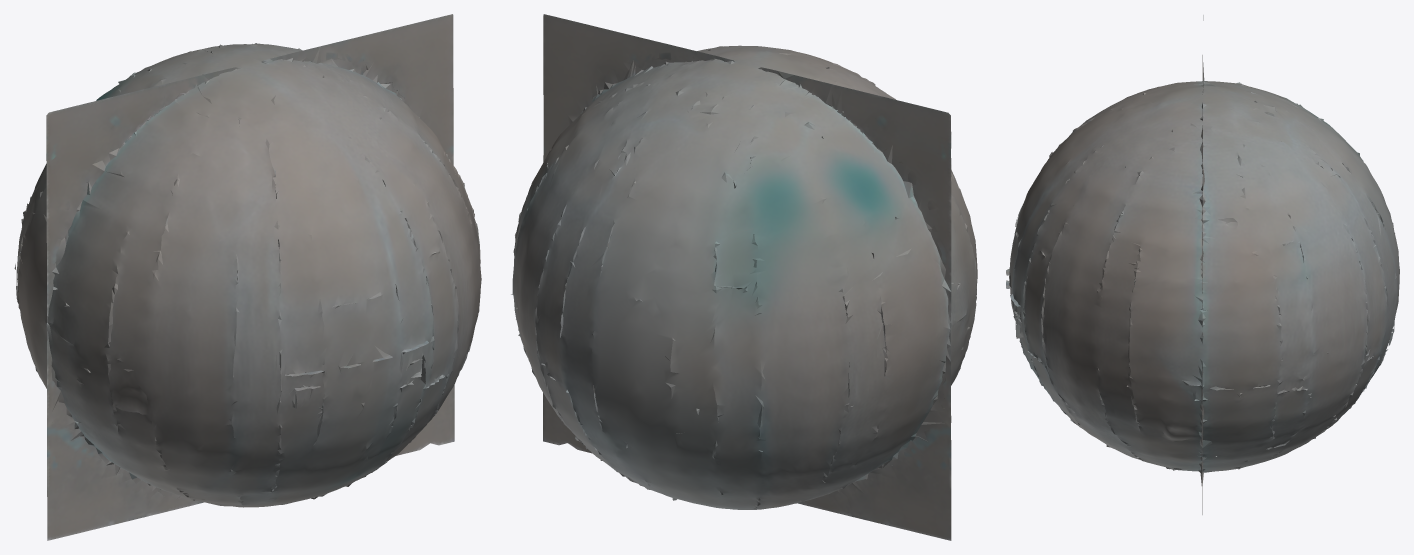
Rendered from lightning_orb.glb.
3 renders of one model, left to right at view 1: azimuth 30°, elevation 25°; view 2: azimuth 150°, elevation 25°; view 3: azimuth 270°, elevation 25°, orthographic. The views are drawn at different scales.
Parts seen in each view (by area): view 1: lightning_orb; view 2: lightning_orb; view 3: lightning_orb.
Part boxes in pixels (x1=…): lightning_orb: x1=14, y1=14, x2=481, y2=540; lightning_orb: x1=511, y1=14, x2=977, y2=540; lightning_orb: x1=1006, y1=15, x2=1399, y2=514.
Size of the model in its own units: 1.89 by 1.89 by 1.88.
Materials: 1 (1 with a texture image).
